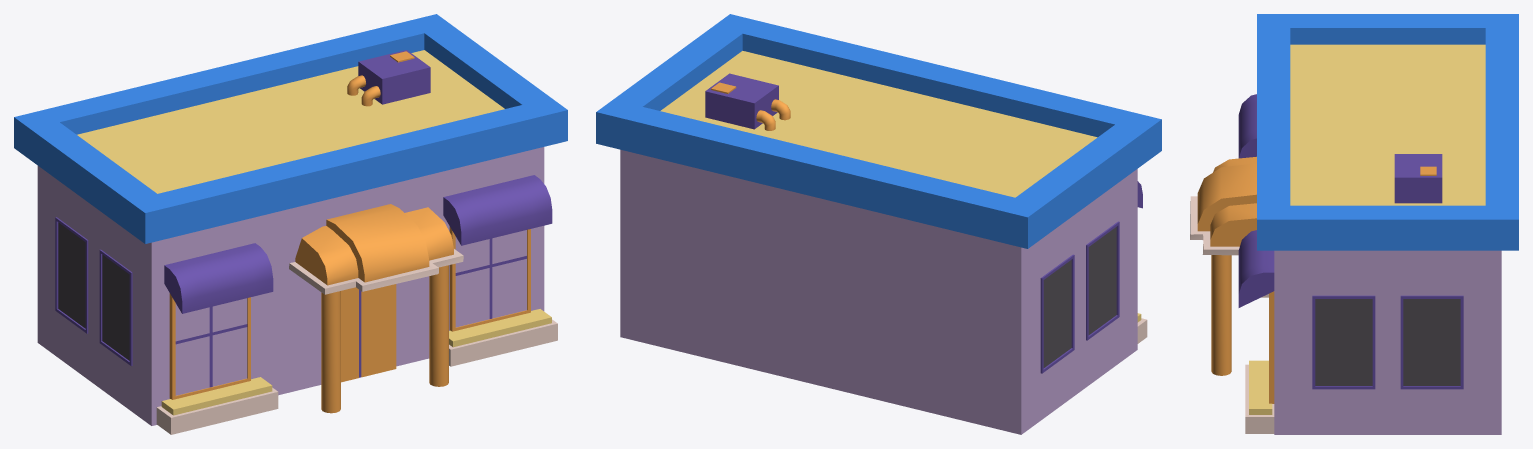
Rendered from Mart.fbx.
The picture shows the model from 3 angles, left to right: view 1: azimuth 30°, elevation 25°; view 2: azimuth 150°, elevation 25°; view 3: azimuth 270°, elevation 25°; orthographic projection. The views are drawn at different scales.
Parts seen in each view (by area): view 1: model_28.001; view 2: model_28.001; view 3: model_28.001.
Boxes of the visible parts, x1=… form: model_28.001: x1=14, y1=14, x2=567, y2=434; model_28.001: x1=596, y1=14, x2=1161, y2=434; model_28.001: x1=1190, y1=14, x2=1518, y2=434.
Bounding box in the file's own units: 1057 × 559 × 713.
